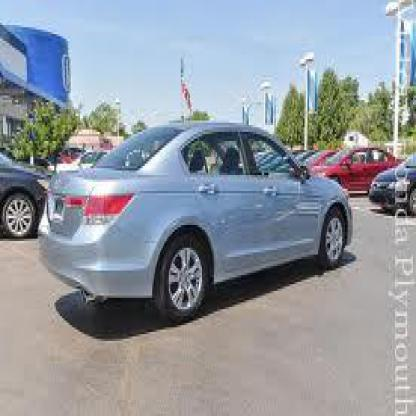Vehicle: (39, 120, 356, 332)
